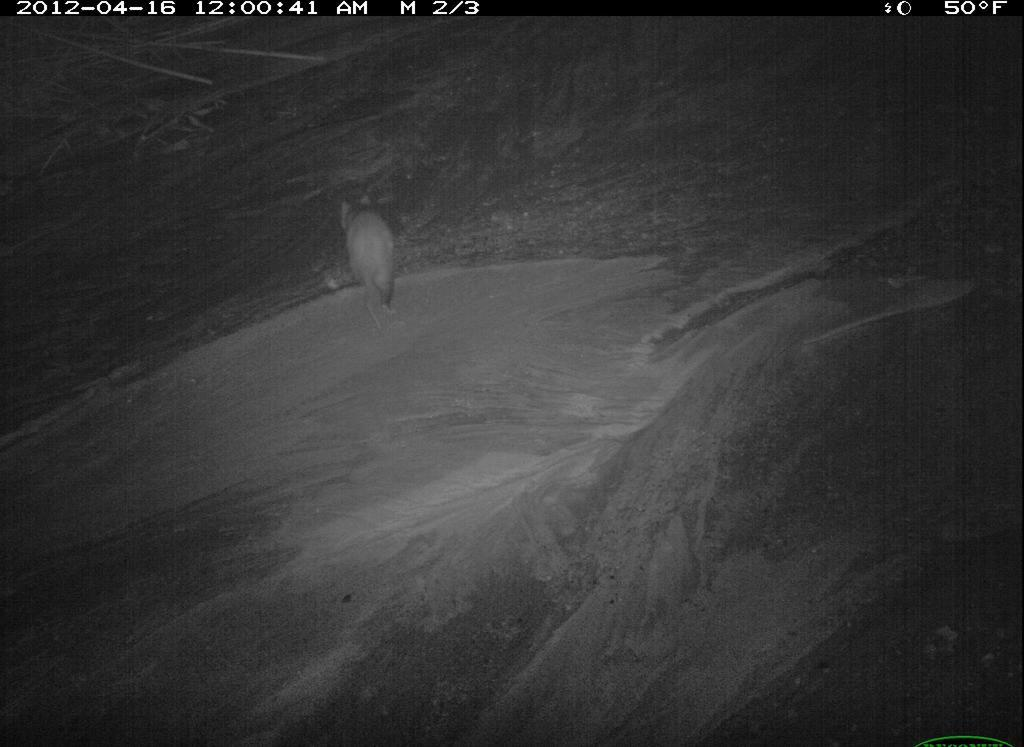opossum: (666, 377, 803, 665)
